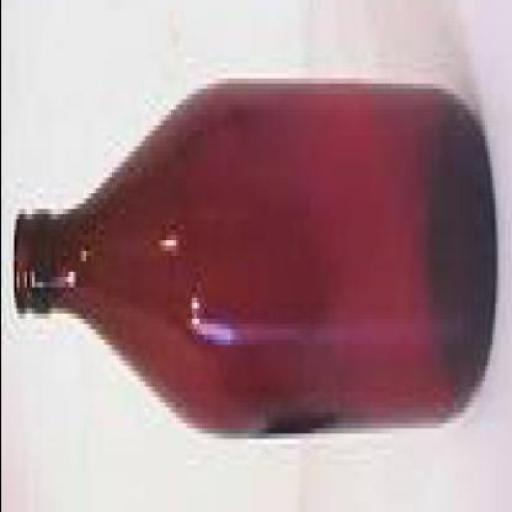glass: (11, 89, 494, 444)
